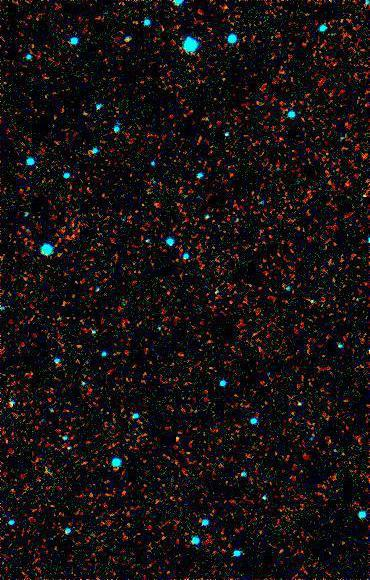star: (162, 423, 192, 453)
